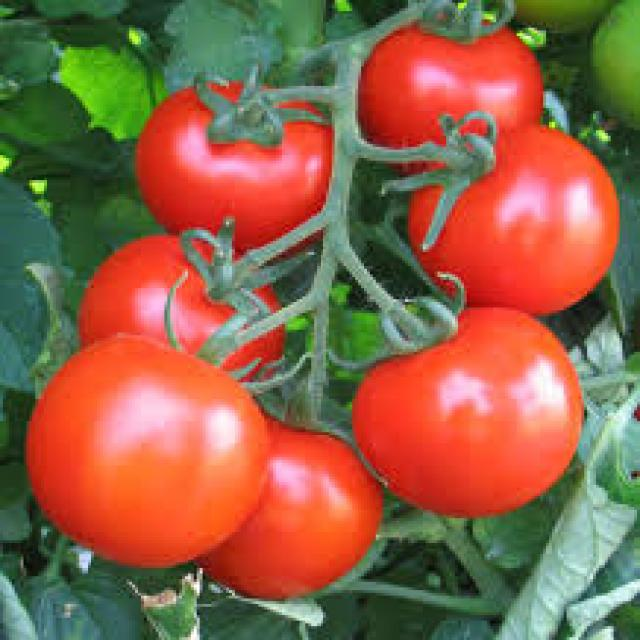organic waste: (12, 330, 264, 565), (346, 308, 584, 518), (405, 128, 620, 308), (138, 72, 332, 249), (223, 402, 394, 596), (68, 227, 284, 380), (352, 2, 543, 160), (587, 0, 637, 141), (469, 0, 613, 30)
